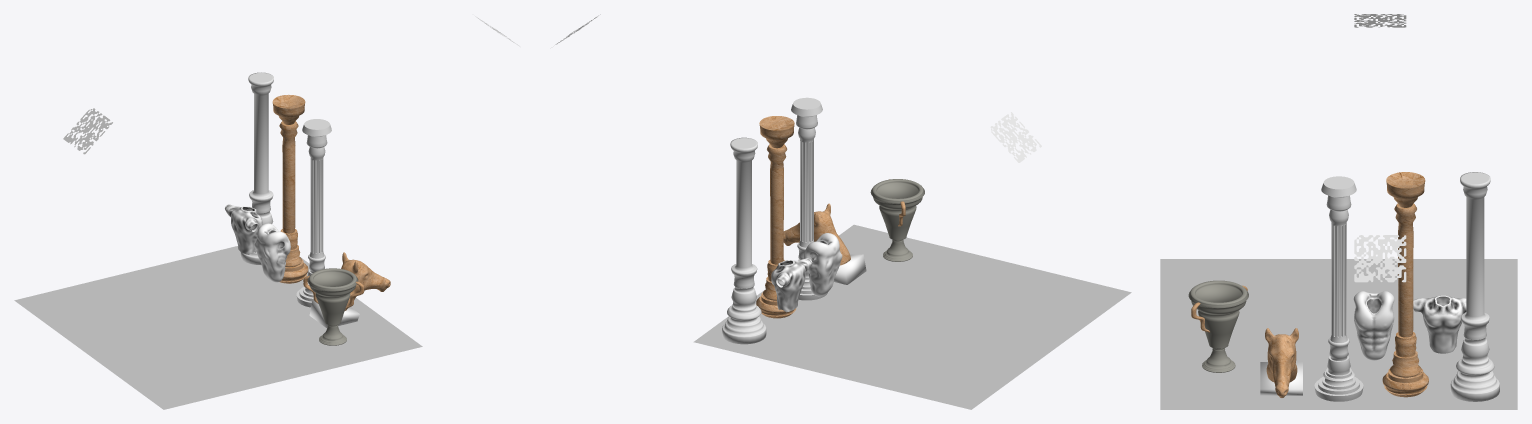
Rendered from uploads_files_2581149_antikpack.fbx.
3 views of the same model, side by side, from view 1: azimuth 30°, elevation 25°; view 2: azimuth 150°, elevation 25°; view 3: azimuth 270°, elevation 25° (orthographic). The views are drawn at different scales.
Parts seen in each view (by area): view 1: Plane, Cube.003, Cube, Cube.001, Cube.002, zırh, PM3D_Sphere3D_1, gövde1, Plane.001; view 2: Plane, Cube.001, Cube.003, Cube, Cube.002, zırh, PM3D_Sphere3D_1, gövde1, Plane.001; view 3: Plane, Cube.001, Cube, Cube.003, Cube.002, PM3D_Sphere3D_1, zırh, gövde1, Plane.002, Plane.001.
Part boxes in pixels (box(x1,y1,x2,y2)): Plane: box(14, 246, 422, 409); Cube.003: box(272, 94, 308, 283); Cube: box(296, 119, 331, 307); Cube.001: box(240, 72, 273, 265); Cube.002: box(303, 268, 364, 345); zırh: box(254, 223, 290, 282); PM3D_Sphere3D_1: box(309, 252, 390, 327); gövde1: box(225, 204, 262, 254); Plane.001: box(63, 108, 112, 154); Plane: box(693, 224, 1131, 409); Cube.001: box(722, 137, 766, 344); Cube.003: box(756, 116, 796, 318); Cube: box(791, 97, 827, 300); Cube.002: box(870, 179, 924, 261); zırh: box(803, 233, 842, 296); PM3D_Sphere3D_1: box(783, 203, 866, 284); gövde1: box(771, 258, 812, 312); Plane.001: box(990, 112, 1041, 162); Plane: box(1160, 259, 1517, 409); Cube.001: box(1450, 172, 1499, 401); Cube: box(1314, 176, 1363, 401); Cube.003: box(1382, 172, 1428, 397); Cube.002: box(1188, 280, 1248, 372); PM3D_Sphere3D_1: box(1260, 328, 1302, 397); zırh: box(1353, 291, 1394, 360); gövde1: box(1413, 295, 1466, 353); Plane.002: box(1354, 235, 1406, 282); Plane.001: box(1354, 14, 1406, 27).
Size of the model in its own units: 2842 by 1376 by 1675.
